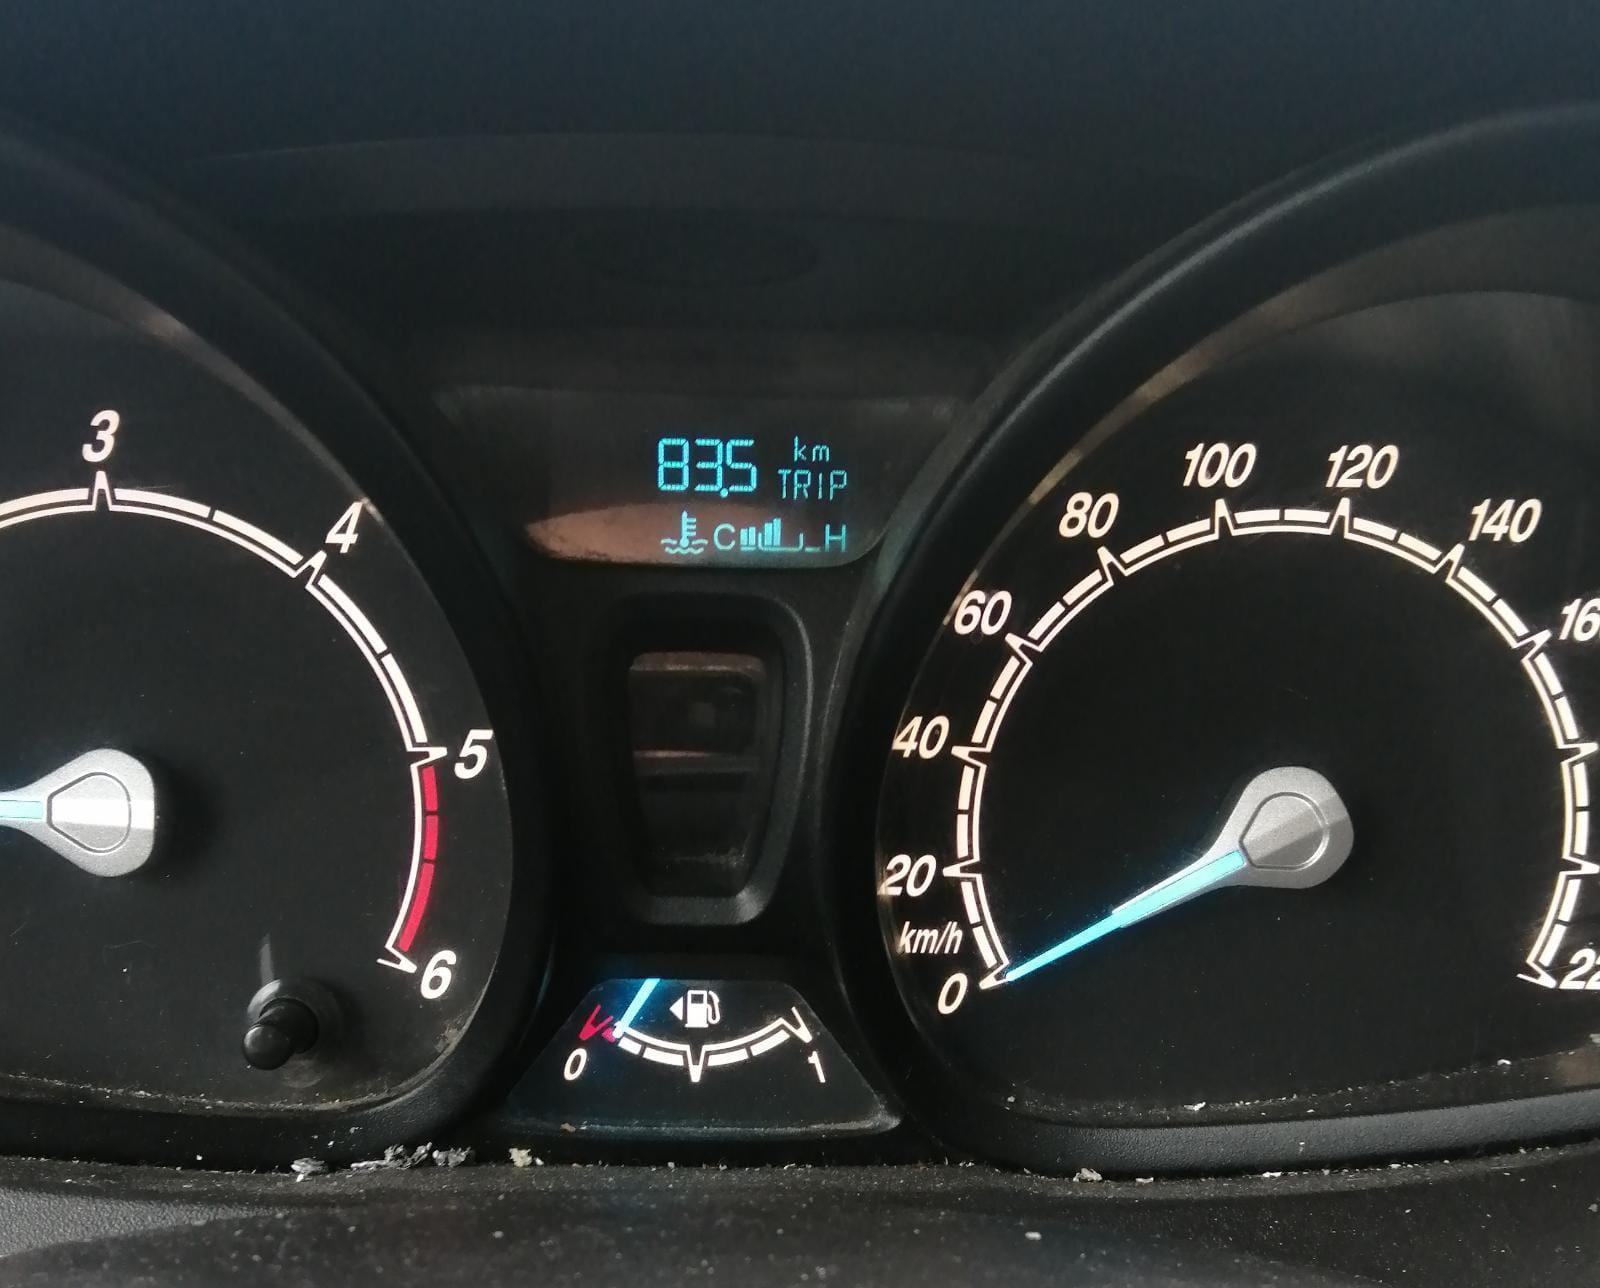,: (719, 484, 729, 499)
3: (694, 435, 722, 492)
5: (725, 435, 758, 494)
8: (656, 436, 690, 492)
X: (822, 520, 851, 555), (711, 519, 737, 552), (828, 468, 849, 503), (793, 467, 811, 501), (789, 431, 807, 464), (811, 438, 832, 464), (776, 467, 791, 498), (814, 469, 825, 501)
odometer: (578, 386, 876, 580)
